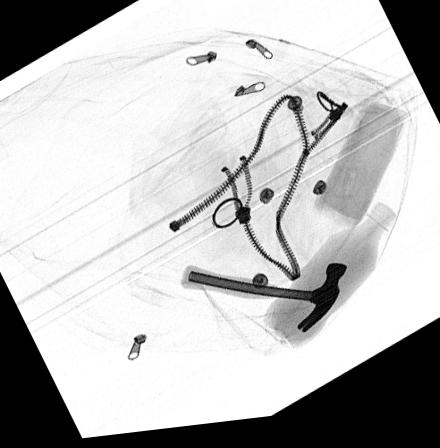Hammer: (178, 267, 346, 340)
